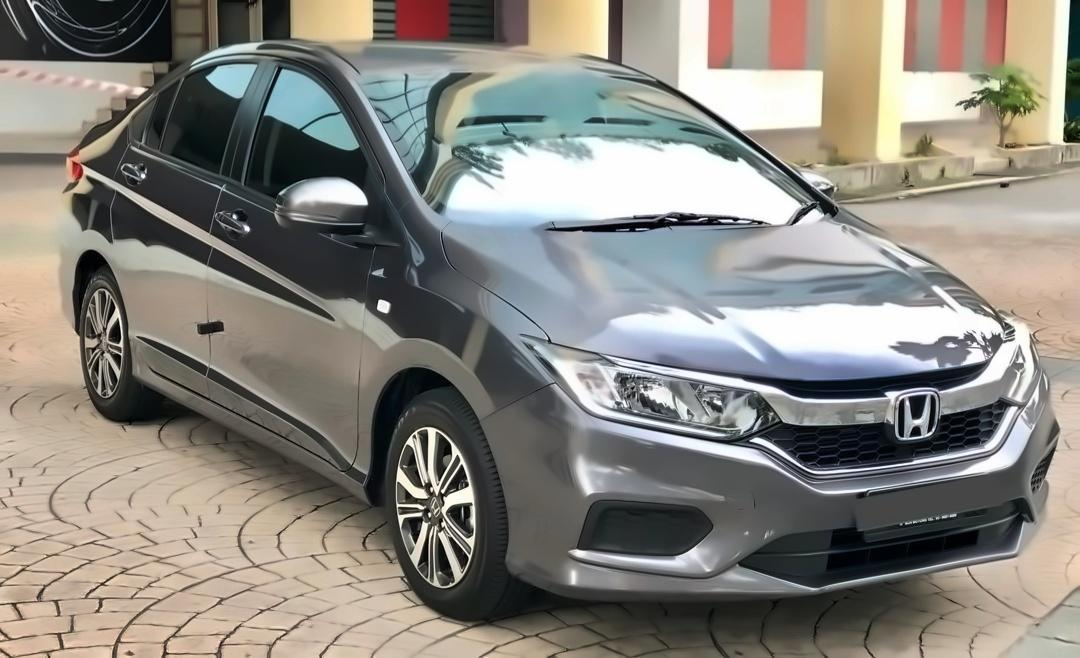Car hood: (440, 216, 1016, 386)
Driver-s door - -F-R-: (210, 47, 369, 479)
Fender - -F-R-: (356, 190, 559, 494)
Fender - -R-R-: (67, 135, 133, 387)
Front bumper: (479, 380, 1067, 614)
Headlight - -L-: (992, 310, 1052, 412)
Headlight - -R-: (513, 329, 793, 451)
Passenger-s door - -R-R-: (109, 47, 257, 433)
Rear bumper: (39, 236, 90, 343)
Rear light - -R-: (57, 134, 87, 198)
Side bumper - -R-: (116, 329, 385, 512)
Side mirror - -L-: (786, 162, 857, 215)
Side mirror - -R-: (272, 162, 374, 244)
